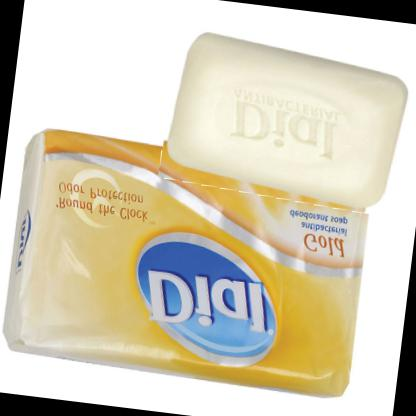soap: (158, 27, 416, 215)
